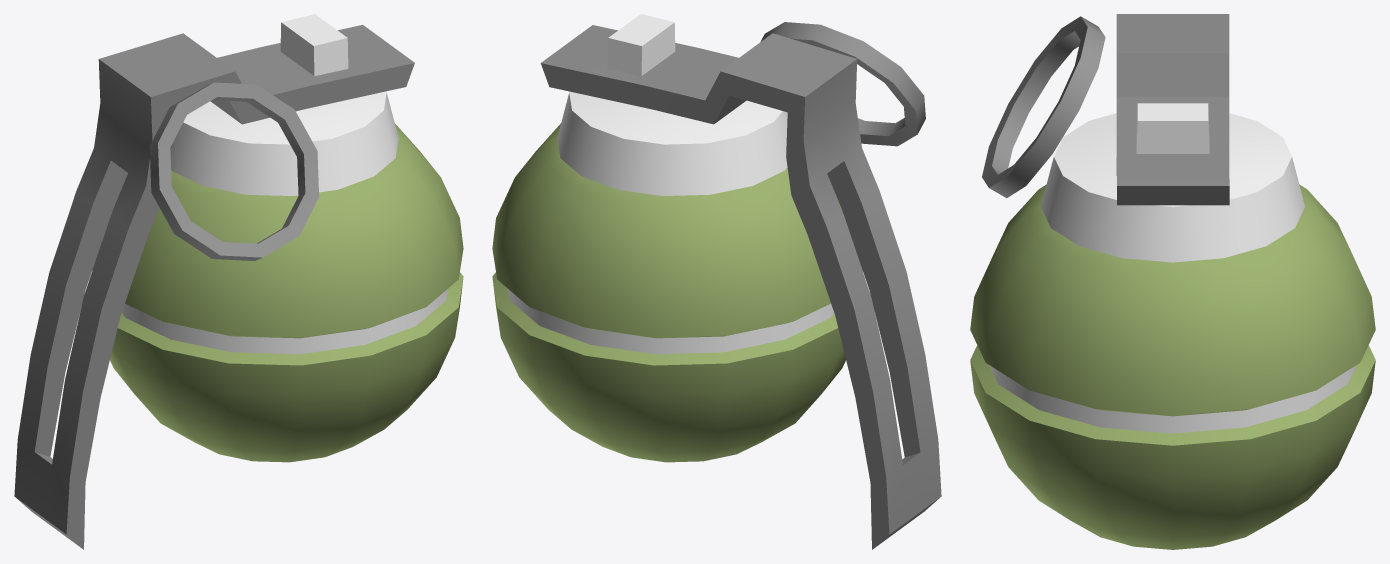
The model's file is Grenade.fbx.
The picture shows the model from 3 angles, left to right: view 1: azimuth 30°, elevation 25°; view 2: azimuth 150°, elevation 25°; view 3: azimuth 270°, elevation 25°; orthographic projection. The views are drawn at different scales.
Visible parts, largest first — view 1: Grenade.002; view 2: Grenade.002; view 3: Grenade.002.
Part boxes in pixels (left/top/right/bottom): Grenade.002: left=14, top=14, right=463, bottom=549; Grenade.002: left=492, top=14, right=941, bottom=549; Grenade.002: left=970, top=14, right=1375, bottom=549.
Size of the model in its own units: 0.5637 by 0.6051 by 0.459.
